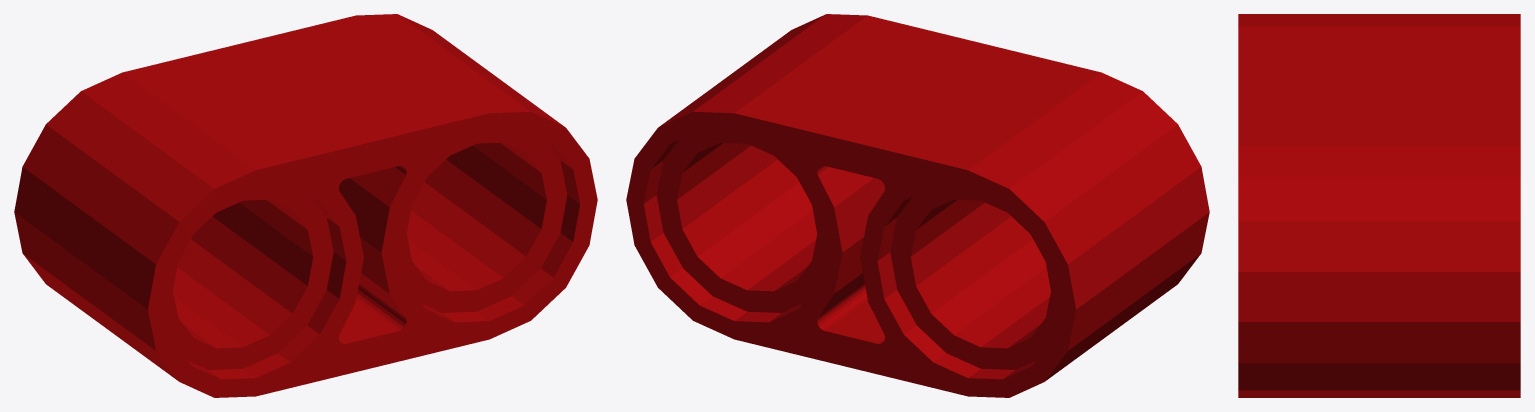
File: 43857 beam 1x2.dae
3 views of the same model, side by side, from view 1: azimuth 30°, elevation 25°; view 2: azimuth 150°, elevation 25°; view 3: azimuth 270°, elevation 25° (orthographic). The views are drawn at different scales.
Parts seen in each view (by area): view 1: Part_43857.1; view 2: Part_43857.1; view 3: Part_43857.1.
Boxes of the visible parts, x1,y1,x2,y2 form: Part_43857.1: (14, 14, 597, 397); Part_43857.1: (626, 14, 1209, 397); Part_43857.1: (1238, 14, 1520, 397).
Bounding box in the file's own units: 15.4 × 7.4 × 7.92.
